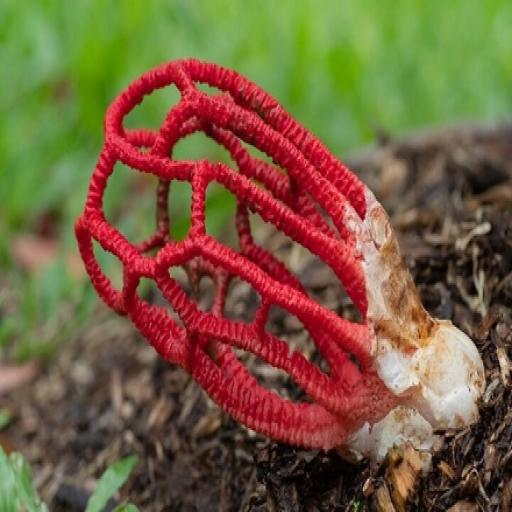Red Cage Fungus: (8, 19, 512, 512)
